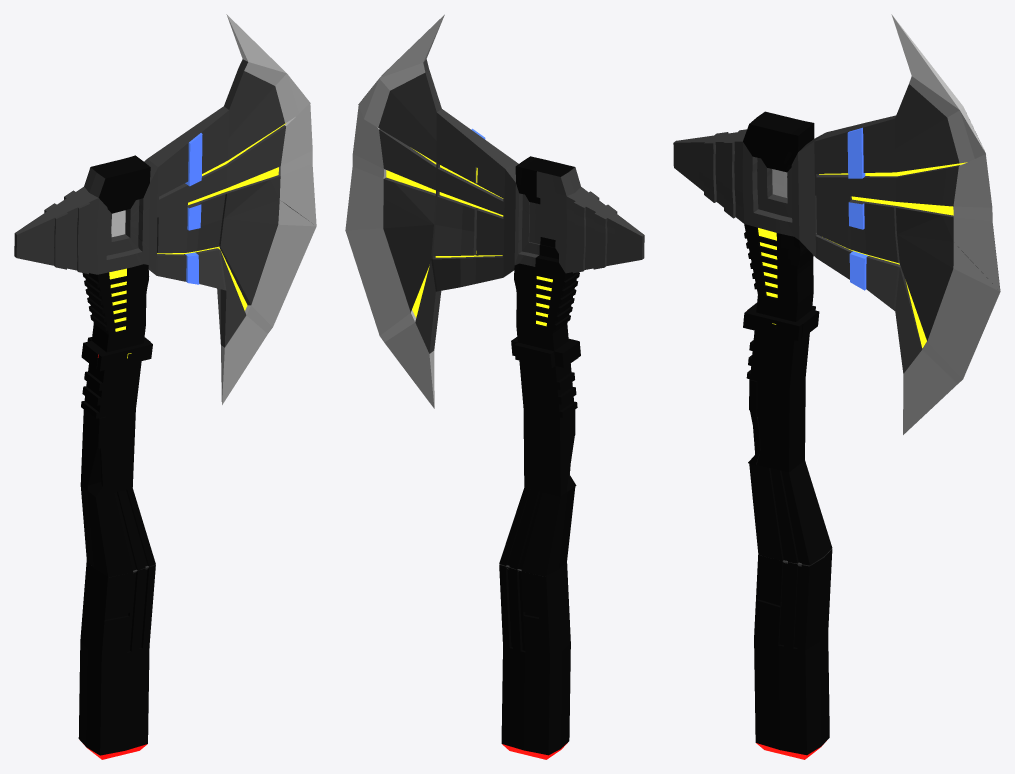
The model's file is Axe.fbx.
The picture shows the model from 3 angles, left to right: view 1: azimuth 30°, elevation 25°; view 2: azimuth 150°, elevation 25°; view 3: azimuth 330°, elevation 25°; orthographic projection. The views are drawn at different scales.
Parts seen in each view (by area): view 1: Plane; view 2: Plane; view 3: Plane.
Part boxes in pixels (x1,y1,x2,y2): Plane: (14,14,316,759); Plane: (345,14,644,759); Plane: (673,14,1000,759).
Size of the model in its own units: 797 by 1811 by 133.
